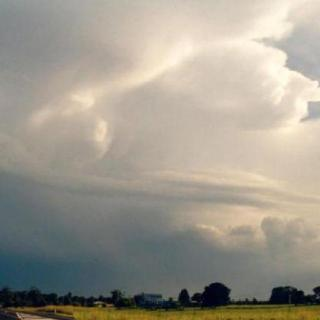Cumulonimbus: (0, 0, 320, 278)
